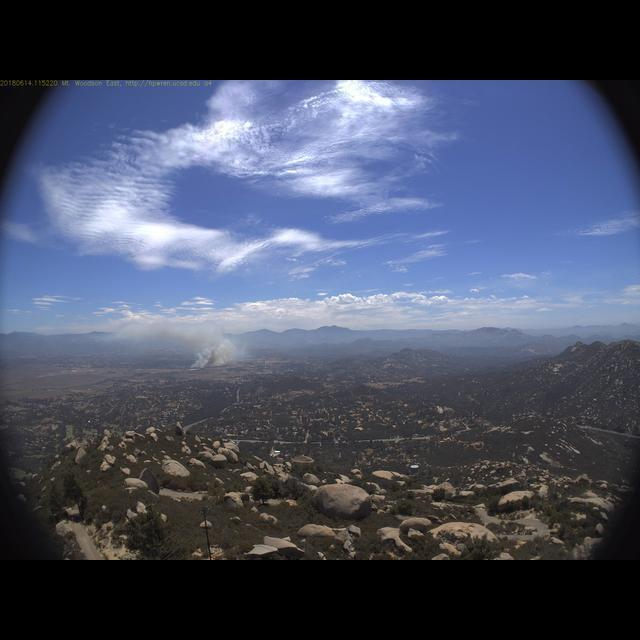Smoke: (132, 318, 251, 371)
